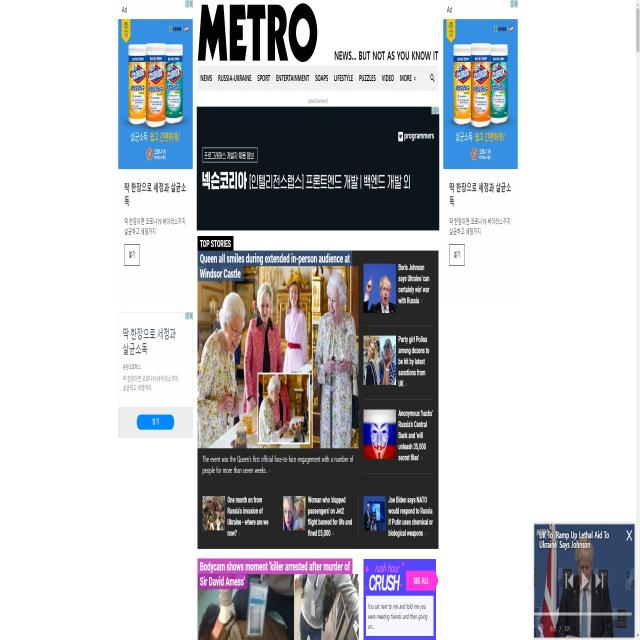control-bar: (534, 566, 633, 632)
tab-bar: (200, 66, 437, 90)
